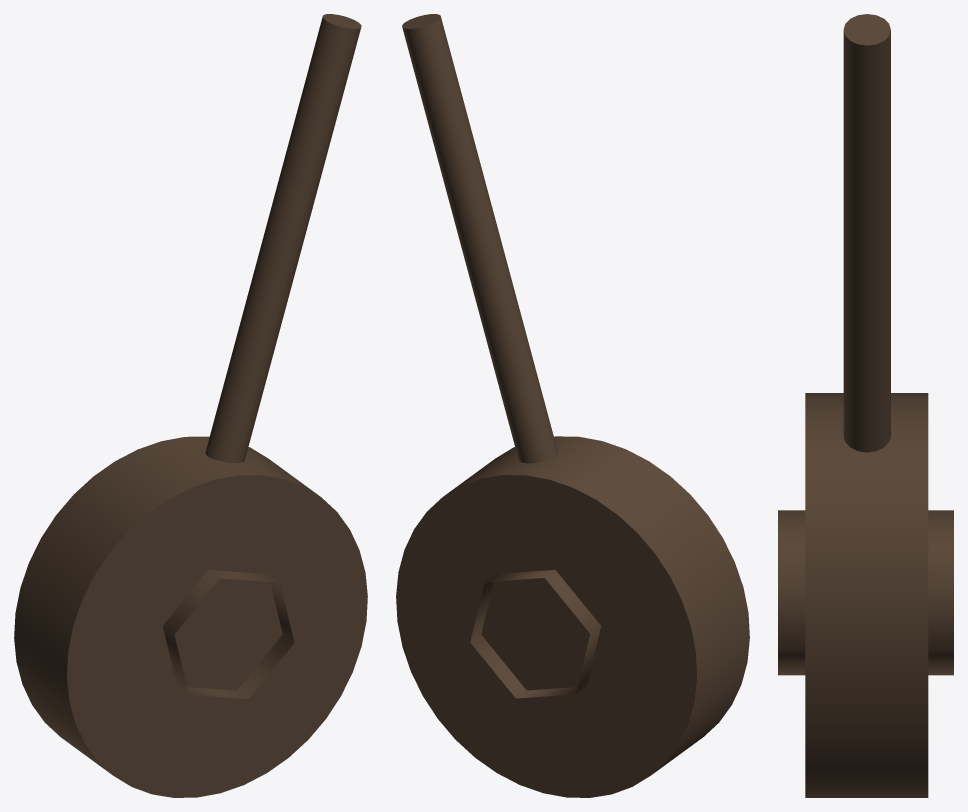
File: catapult_lever_arm.obj
3 renders of one model, left to right at view 1: azimuth 30°, elevation 25°; view 2: azimuth 150°, elevation 25°; view 3: azimuth 270°, elevation 25°, orthographic. The views are drawn at different scales.
Visible parts, largest first — view 1: catapult_lever_arm; view 2: catapult_lever_arm; view 3: catapult_lever_arm.
Boxes of the visible parts, left/top/right/bottom form: catapult_lever_arm: left=14, top=14, right=367, bottom=797; catapult_lever_arm: left=396, top=14, right=749, bottom=797; catapult_lever_arm: left=778, top=14, right=953, bottom=797.
Size of the model in its own units: 463 by 1002 by 190.
